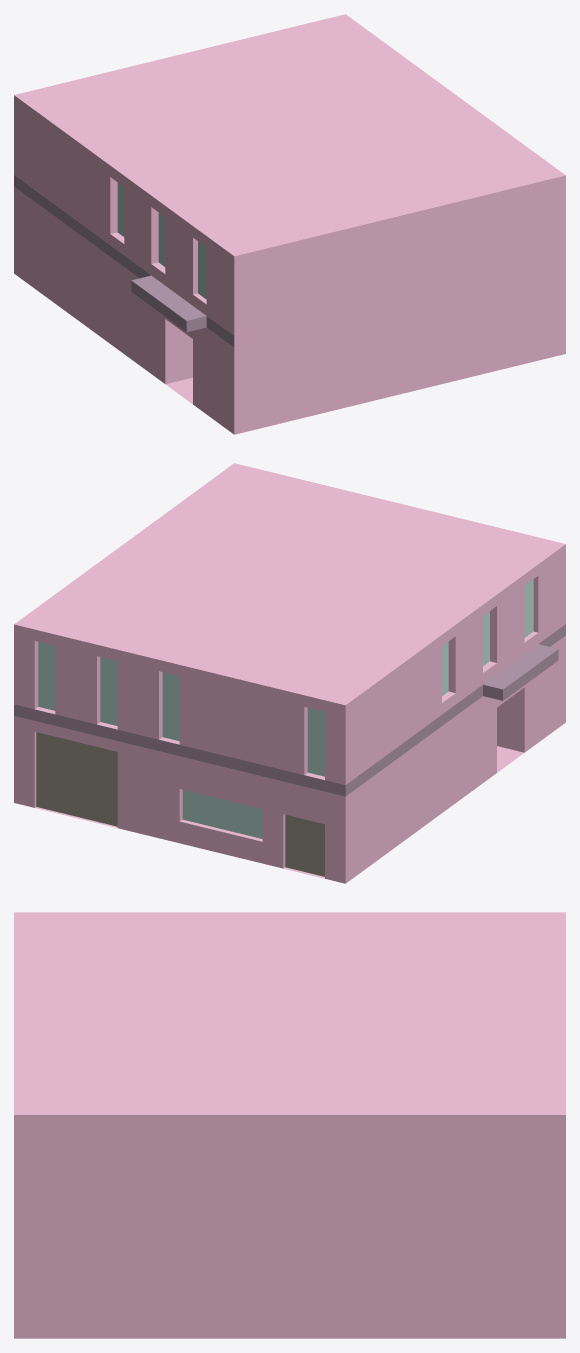
File: casa_2piso2.glb
3 renders of one model, top to bottom at view 1: azimuth 30°, elevation 25°; view 2: azimuth 150°, elevation 25°; view 3: azimuth 270°, elevation 25°, orthographic. The views are drawn at different scales.
Visible parts, largest first — view 1: Cubo; view 2: Cubo; view 3: Cubo.
Boxes of the visible parts, x1,y1,x2,y2 form: Cubo: [14, 14, 565, 434]; Cubo: [14, 463, 565, 883]; Cubo: [14, 912, 565, 1338].
Size of what is drawn, in the model's own units: 16.33 by 7.92 by 17.72.
